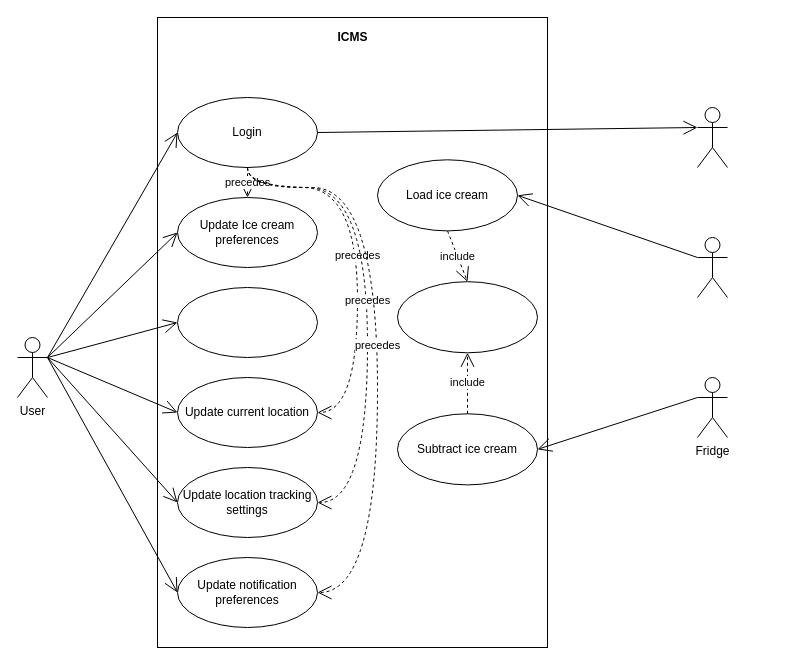
Image size: 798x665. Some labels were removed from this diagram. Here are the shapes that lost their labels. From the top down, the centre of each, then its label:
[712,137]: External company system
[712,267]: Ice Cream company
[247,322]: Check ice cream availability
[467,317]: Update ice cream quantities
